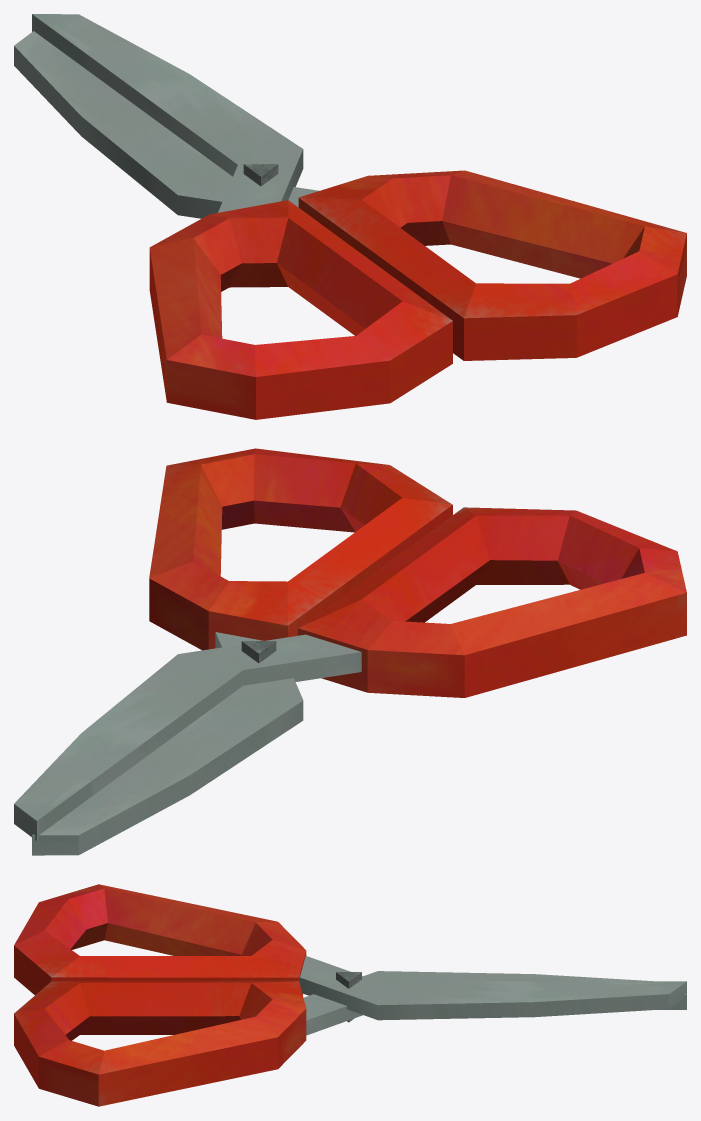
The model's file is FBX_Model_MABacklog_Scissors.fbx.
The picture shows the model from 3 angles, top to bottom: view 1: azimuth 30°, elevation 25°; view 2: azimuth 150°, elevation 25°; view 3: azimuth 270°, elevation 25°; orthographic projection. The views are drawn at different scales.
Visible parts, largest first — view 1: handle_R, handle_L, blade_R, blade_L; view 2: handle_L, handle_R, blade_R, blade_L; view 3: handle_R, handle_L, blade_R, blade_L.
Boxes of the visible parts, x1,y1,x2,y2 form: handle_R: [298, 170, 686, 360]; handle_L: [149, 200, 452, 419]; blade_R: [32, 14, 303, 212]; blade_L: [14, 31, 319, 218]; handle_L: [298, 507, 686, 697]; handle_R: [149, 448, 452, 650]; blade_R: [14, 634, 361, 840]; blade_L: [32, 632, 303, 855]; handle_R: [14, 981, 306, 1106]; handle_L: [14, 884, 306, 994]; blade_R: [300, 956, 686, 1020]; blade_L: [303, 971, 686, 1035].
Size of the model in its own units: 7.48 by 0.9511 by 11.17.
Materials: 1 (1 with a texture image).
